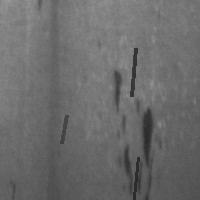inclusion: (121, 97, 161, 199), (35, 1, 64, 94), (110, 67, 129, 135), (129, 46, 137, 98), (131, 155, 140, 200), (59, 113, 68, 145)
